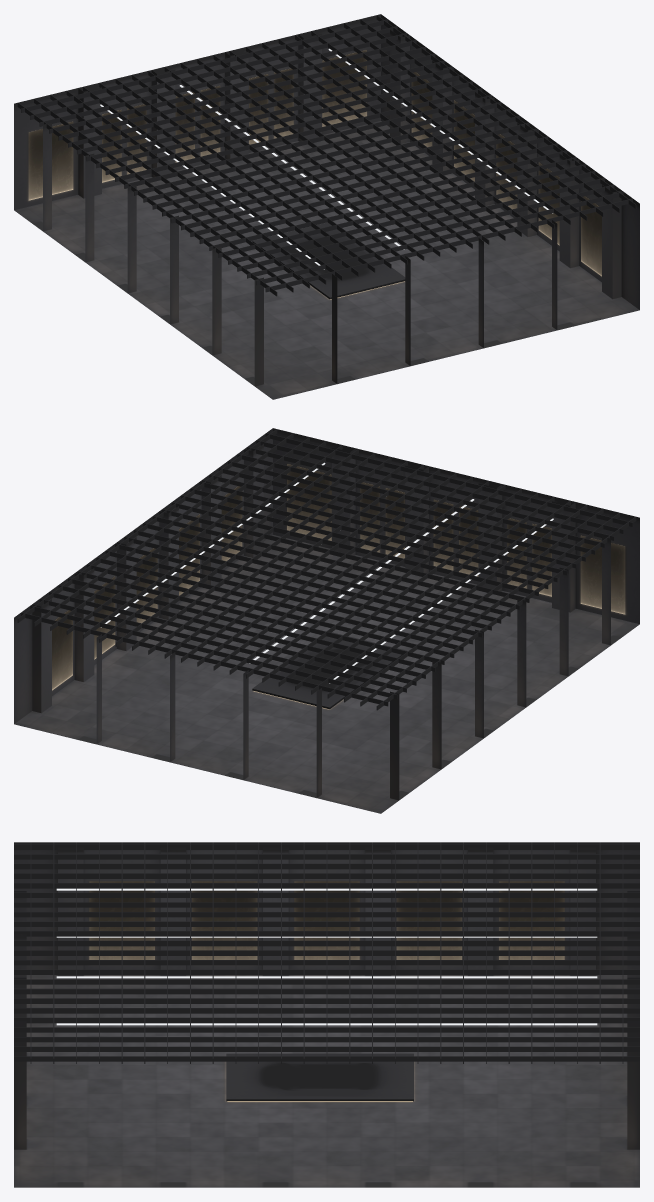
File: car-showroom.glb
3 renders of one model, top to bottom at view 1: azimuth 30°, elevation 25°; view 2: azimuth 150°, elevation 25°; view 3: azimuth 270°, elevation 25°, orthographic. The views are drawn at different scales.
Parts seen in each view (by area): view 1: CeilingGrid, Floor, Walls, Panels, PlatformTop, LightStrips; view 2: CeilingGrid, Floor, Walls, Panels, PlatformTop, LightStrips; view 3: Floor, CeilingGrid, Walls, Panels, PlatformTop, LightStrips, PlatformEdge.
Part boxes in pixels (x1=…): CeilingGrid: x1=17, y1=15, x2=636, y2=296; Floor: x1=14, y1=121, x2=639, y2=399; Walls: x1=14, y1=14, x2=639, y2=386; Panels: x1=28, y1=50, x2=601, y2=276; PlatformTop: x1=252, y1=222, x2=405, y2=297; LightStrips: x1=100, y1=48, x2=552, y2=269; CeilingGrid: x1=17, y1=429, x2=636, y2=710; Floor: x1=14, y1=535, x2=639, y2=813; Walls: x1=14, y1=428, x2=639, y2=800; Panels: x1=52, y1=464, x2=625, y2=690; PlatformTop: x1=252, y1=632, x2=406, y2=707; LightStrips: x1=101, y1=462, x2=553, y2=683; Floor: x1=14, y1=975, x2=639, y2=1187; CeilingGrid: x1=14, y1=842, x2=639, y2=1063; Walls: x1=14, y1=842, x2=639, y2=1149; Panels: x1=89, y1=881, x2=564, y2=959; PlatformTop: x1=226, y1=1053, x2=413, y2=1099; LightStrips: x1=56, y1=888, x2=597, y2=1025; PlatformEdge: x1=226, y1=1099, x2=413, y2=1101.
Size of the model in its own units: 18 by 5 by 22.
9 materials, 1 textured.
